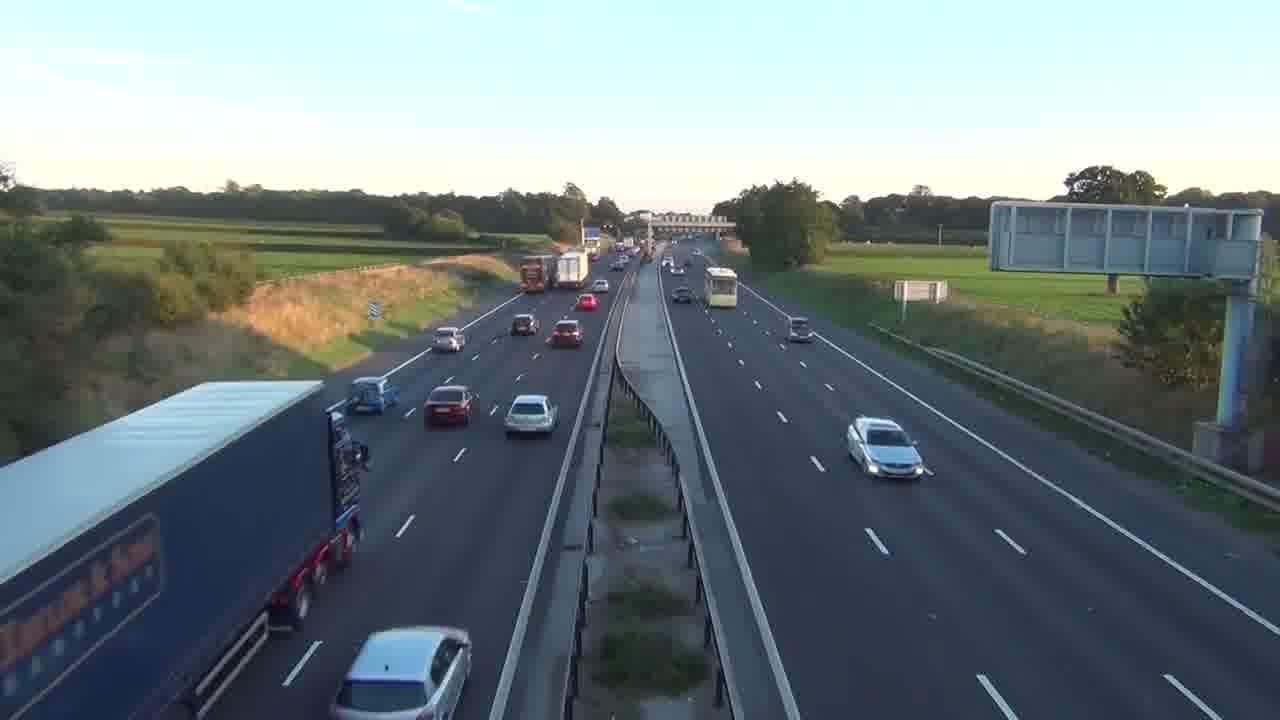car: (331, 624, 474, 719), (844, 415, 931, 480), (423, 383, 479, 428), (505, 393, 559, 437), (546, 318, 584, 348), (510, 313, 538, 336), (574, 294, 598, 311)
truck: (1, 378, 362, 713), (704, 265, 738, 309)
